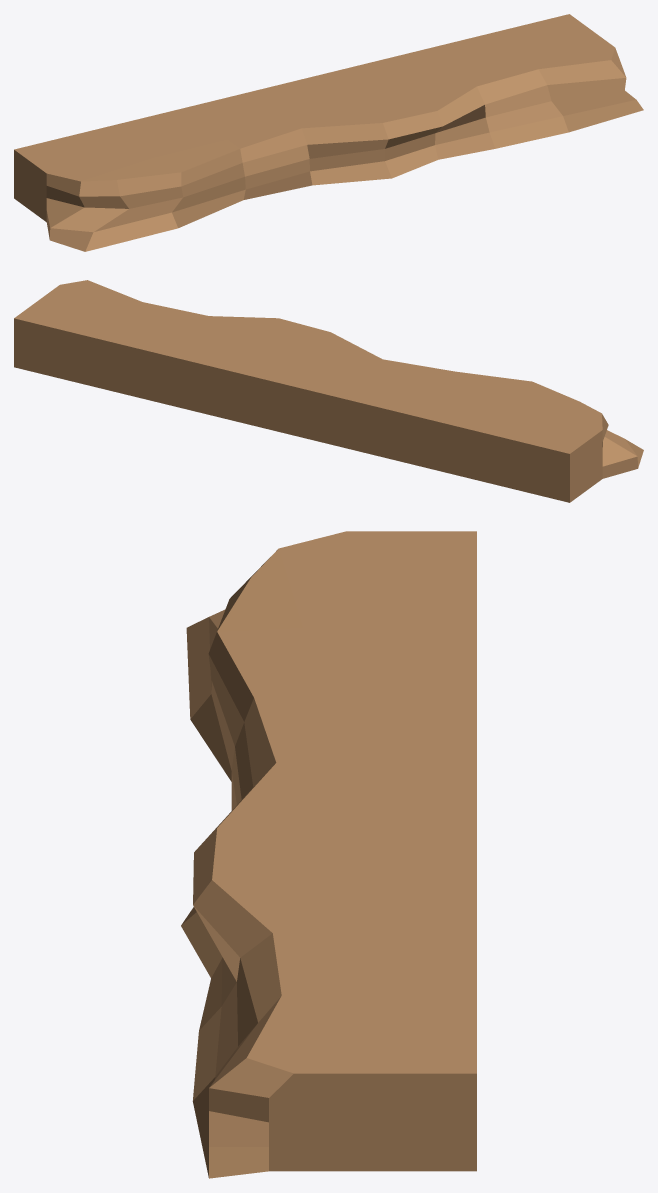
The picture shows the model from 3 angles, top to bottom: view 1: azimuth 30°, elevation 25°; view 2: azimuth 150°, elevation 25°; view 3: azimuth 270°, elevation 25°; orthographic projection. The views are drawn at different scales.
Parts seen in each view (by area): view 1: Cube; view 2: Cube; view 3: Cube.
Part boxes in pixels (x1,y1,x2,y2): Cube: (14, 14, 643, 251); Cube: (14, 280, 643, 502); Cube: (181, 531, 476, 1178).
Bounding box in the file's own units: 13132 × 1060 × 2910.
